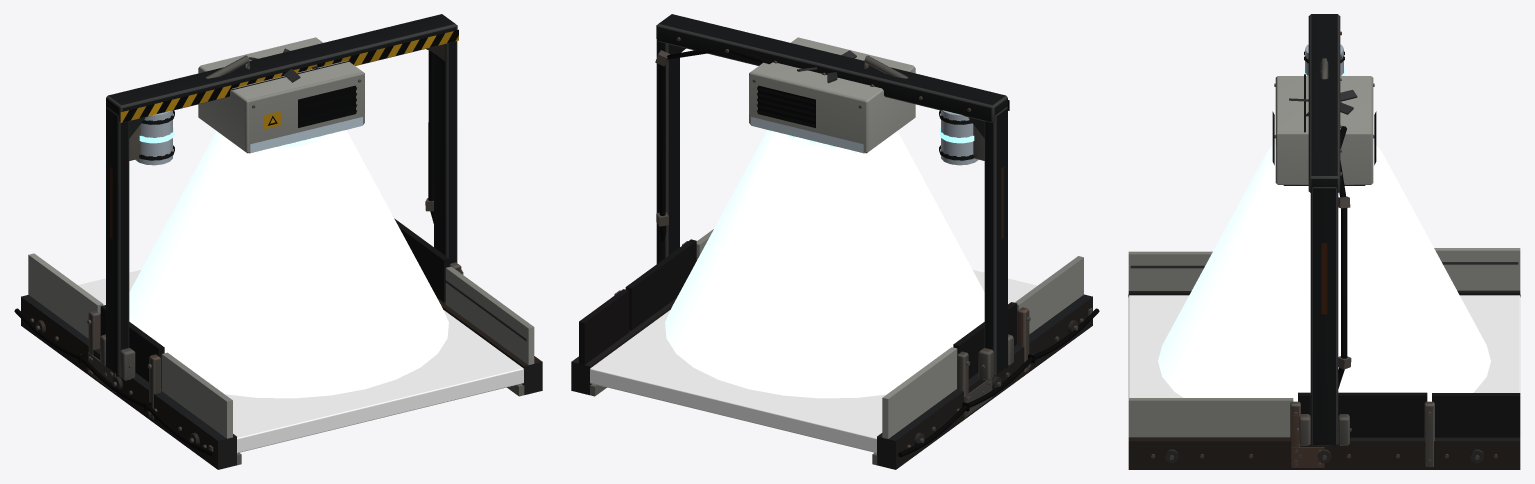
The model's file is concept_cryo_vent.glb.
3 views of the same model, side by side, from view 1: azimuth 30°, elevation 25°; view 2: azimuth 150°, elevation 25°; view 3: azimuth 270°, elevation 25° (orthographic).
Parts seen in each view (by area): view 1: Cone, Frame, Belt; view 2: Cone, Frame, Belt; view 3: Frame, Cone, Belt.
Part boxes in pixels (x1=…): Cone: x1=129, y1=130, x2=448, y2=398; Frame: x1=14, y1=14, x2=542, y2=469; Belt: x1=78, y1=270, x2=523, y2=453; Cone: x1=665, y1=130, x2=984, y2=398; Frame: x1=571, y1=14, x2=1099, y2=469; Belt: x1=590, y1=270, x2=1037, y2=453; Frame: x1=1128, y1=14, x2=1520, y2=469; Cone: x1=1158, y1=144, x2=1490, y2=401; Belt: x1=1128, y1=295, x2=1520, y2=397.
Size of the model in its own units: 2 by 1.74 by 2.
